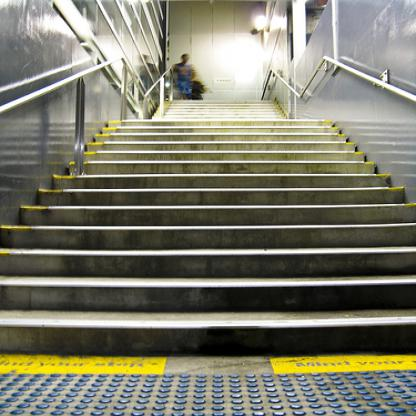stairs: (24, 207, 397, 368)
